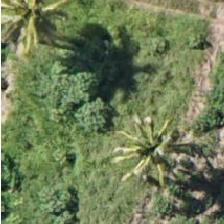coconut_tree: (98, 104, 188, 194), (0, 0, 82, 59)
